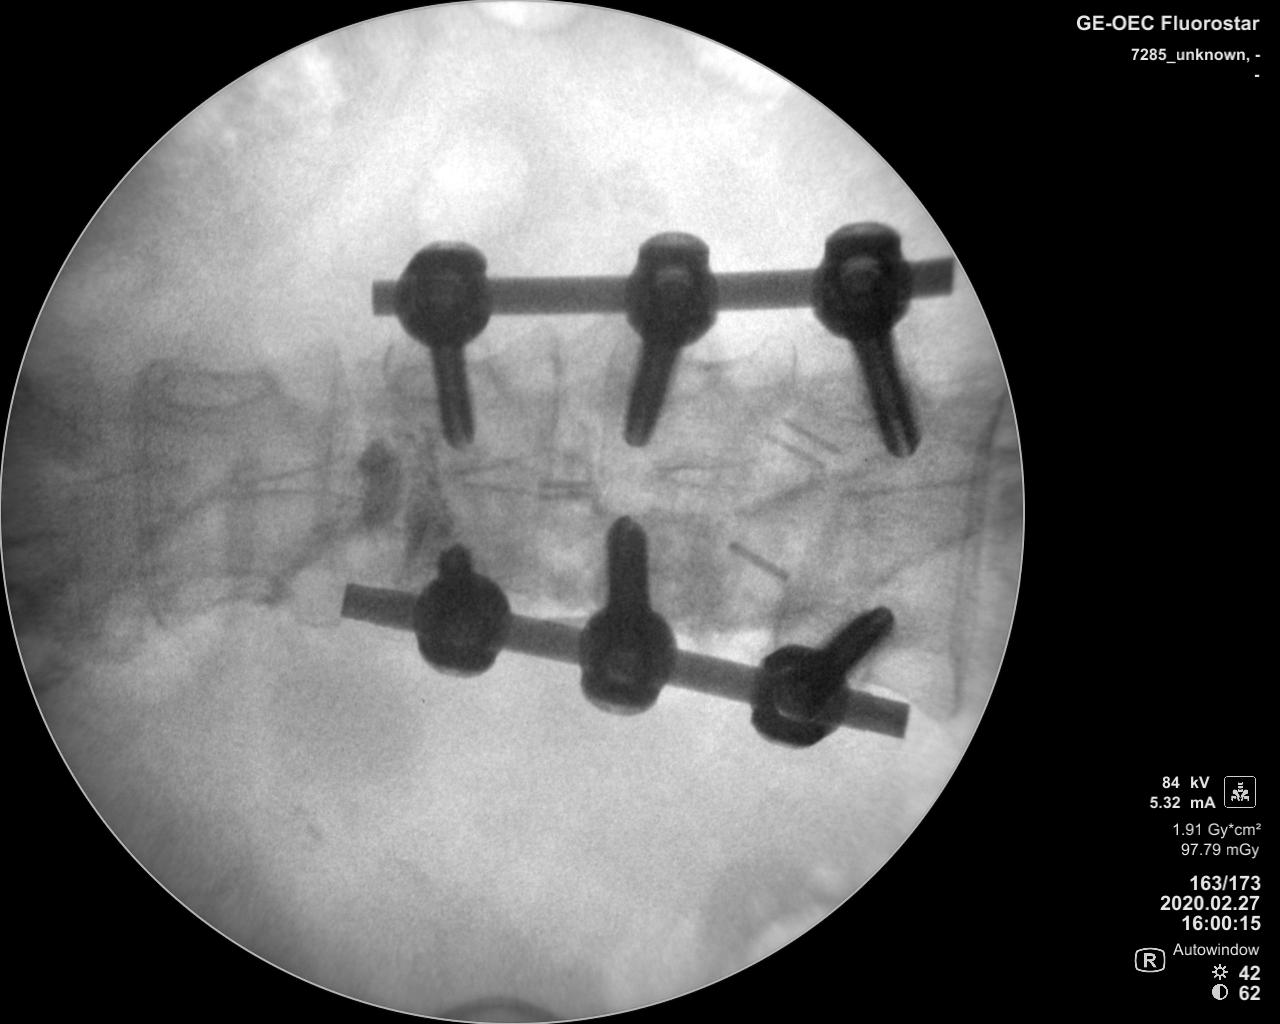eyes: (156, 369, 275, 415), (160, 571, 282, 611), (386, 360, 496, 402), (639, 351, 716, 395)
line: (950, 392, 1007, 721), (525, 324, 566, 610), (127, 369, 162, 630), (318, 341, 351, 586)
nose: (49, 461, 213, 516), (226, 449, 376, 506), (442, 447, 591, 502), (643, 457, 778, 498)
